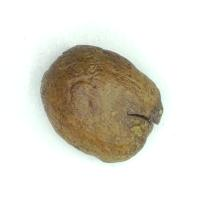NG: (119, 80, 164, 152)
